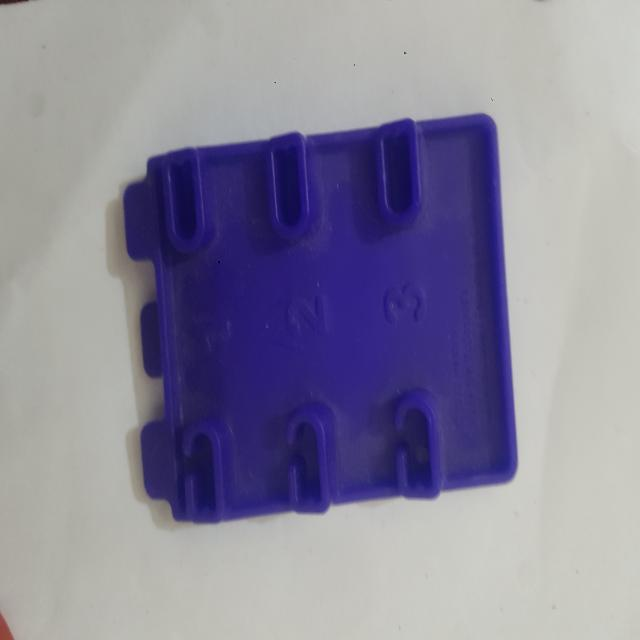general: (121, 112, 520, 524)
